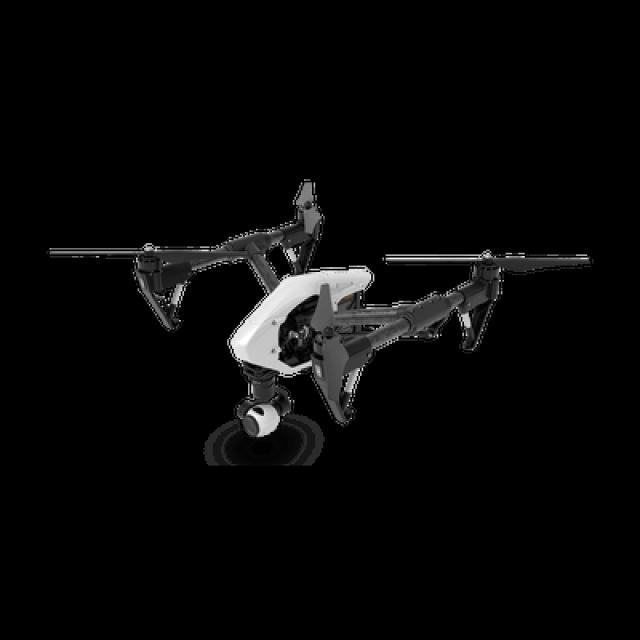drone: (51, 205, 608, 416)
